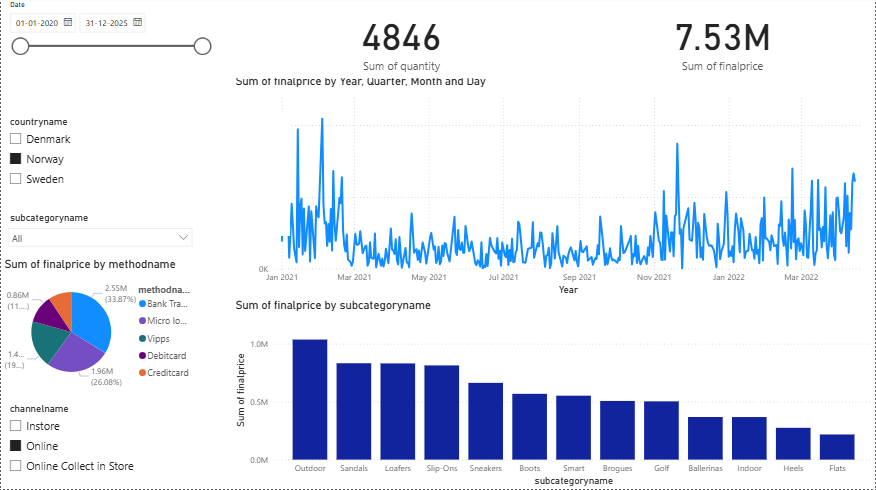

This screenshot's page, from the dashboard's own definition file:
{"tool":"powerbi","page":{"name":"Page 1","canvas":[1280,720],"ordinal":0},"visuals":[{"type":"columnChart","fields":{"Category":["public dim_subcategory.subcategoryname"],"Y":["Sum(public fact_sales.finalprice)"]},"box":[338,440.5,942.4,279.5],"z":0},{"type":"lineChart","fields":{"Category":["dim_date.Date.Variation.Date Hierarchy.Year","dim_date.Date.Variation.Date Hierarchy.Quarter","dim_date.Date.Variation.Date Hierarchy.Month","dim_date.Date.Variation.Date Hierarchy.Day"],"Y":["Sum(public fact_sales.finalprice)"]},"box":[338,112.7,942.4,327.8],"z":1000},{"type":"card","fields":{"Values":["Sum(public fact_sales.finalprice)"]},"box":[834.1,0,443.4,124.4],"z":2000},{"type":"card","fields":{"Values":["Sum(public fact_sales.quantity)"]},"box":[338,5.9,496.1,112.7],"z":3000},{"type":"slicer","fields":{"Values":["dim_date.Date"]},"box":[0,0,316.1,112.7],"z":4000},{"type":"slicer","fields":{"Values":["public dim_country.countryname"]},"box":[0,169.8,422.9,180],"z":5000},{"type":"slicer","fields":{"Values":["public dim_subcategory.subcategoryname"]},"box":[0,310.2,316.1,77.6],"z":6000},{"type":"slicer","fields":{"Values":["public dim_saleschannel.channelname"]},"box":[0,414.1,338,130.2],"z":7000}]}

Visuals, with their boxes in screenshot pixels (x1, y1, x2, y2), scaled from the page's 1280x720 canvas onto the 876x490 screenshot:
columnChart - public dim_subcategory.subcategoryname x Sum(public fact_sales.finalprice): box=[231, 300, 875, 489]
lineChart - dim_date.Date.Variation.Date Hierarchy.Year x dim_date.Date.Variation.Date Hierarchy.Quarter: box=[231, 77, 875, 300]
card - Sum(public fact_sales.finalprice): box=[571, 0, 874, 85]
card - Sum(public fact_sales.quantity): box=[231, 4, 571, 81]
slicer - dim_date.Date: box=[0, 0, 216, 77]
slicer - public dim_country.countryname: box=[0, 116, 289, 238]
slicer - public dim_subcategory.subcategoryname: box=[0, 211, 216, 264]
slicer - public dim_saleschannel.channelname: box=[0, 282, 231, 370]
